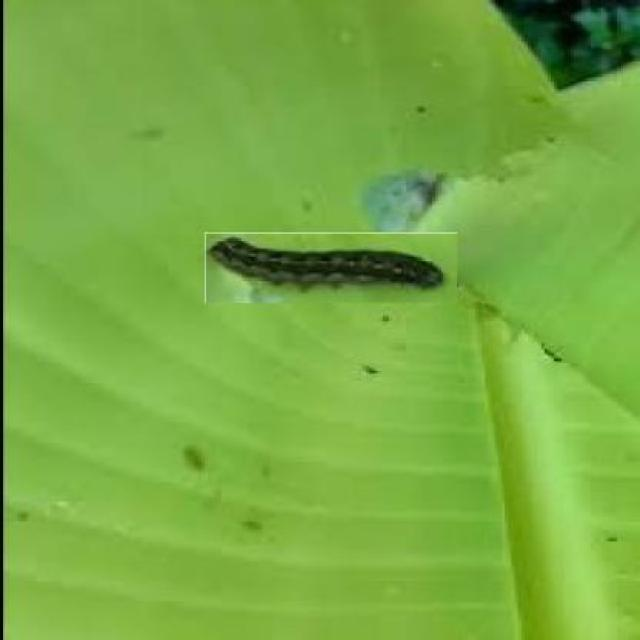Plaga: (206, 233, 460, 306)
